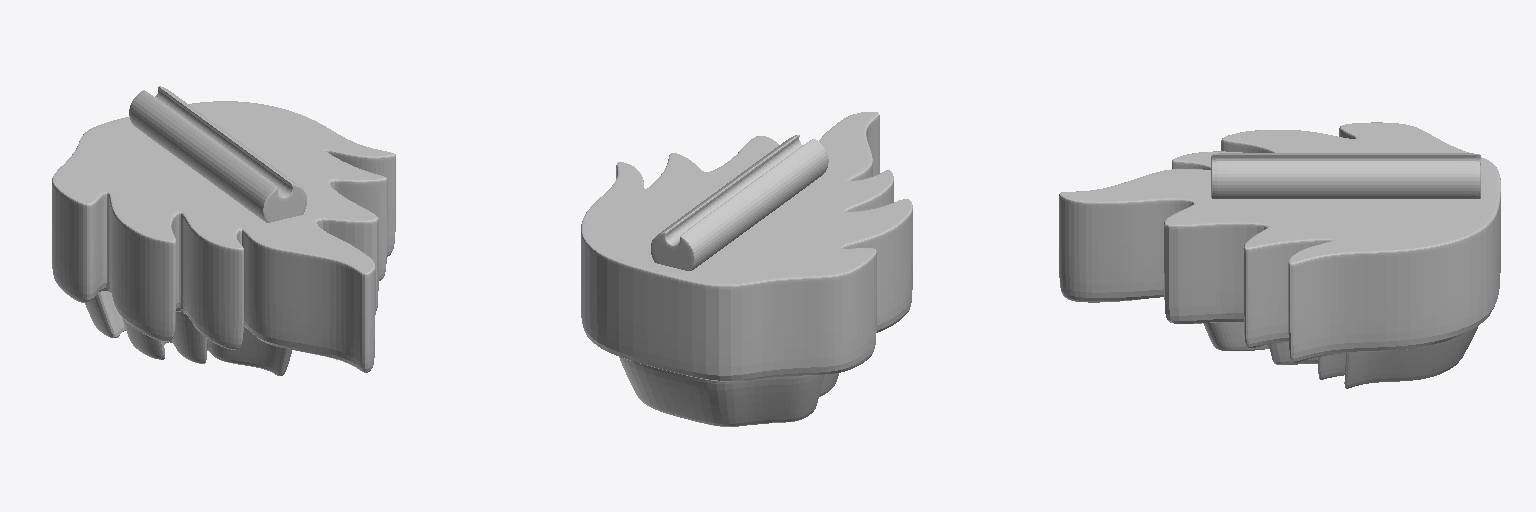
File: Flame.obj
3 renders of one model, left to right at view 1: azimuth 30°, elevation 25°; view 2: azimuth 150°, elevation 25°; view 3: azimuth 270°, elevation 25°, orthographic.
Parts seen in each view (by area): view 1: 21330_Flame_v1; view 2: 21330_Flame_v1; view 3: 21330_Flame_v1.
Boxes of the visible parts, <box> form: 21330_Flame_v1: <box>52,86,395,375</box>; 21330_Flame_v1: <box>581,112,912,426</box>; 21330_Flame_v1: <box>1059,122,1500,388</box>.
Bounding box in the file's own units: 3.73 × 2.37 × 4.92.